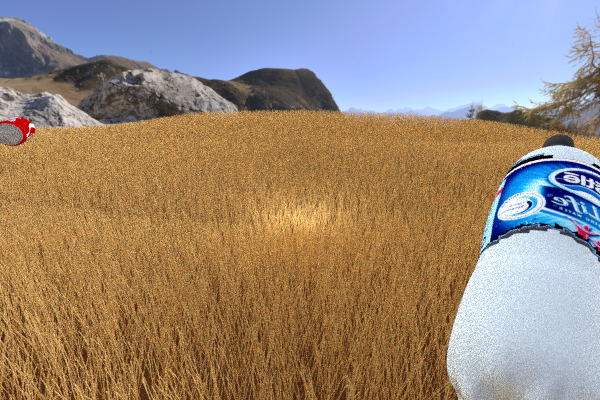bottle: (446, 134, 600, 400)
can: (154, 122, 257, 183), (0, 116, 35, 145)
